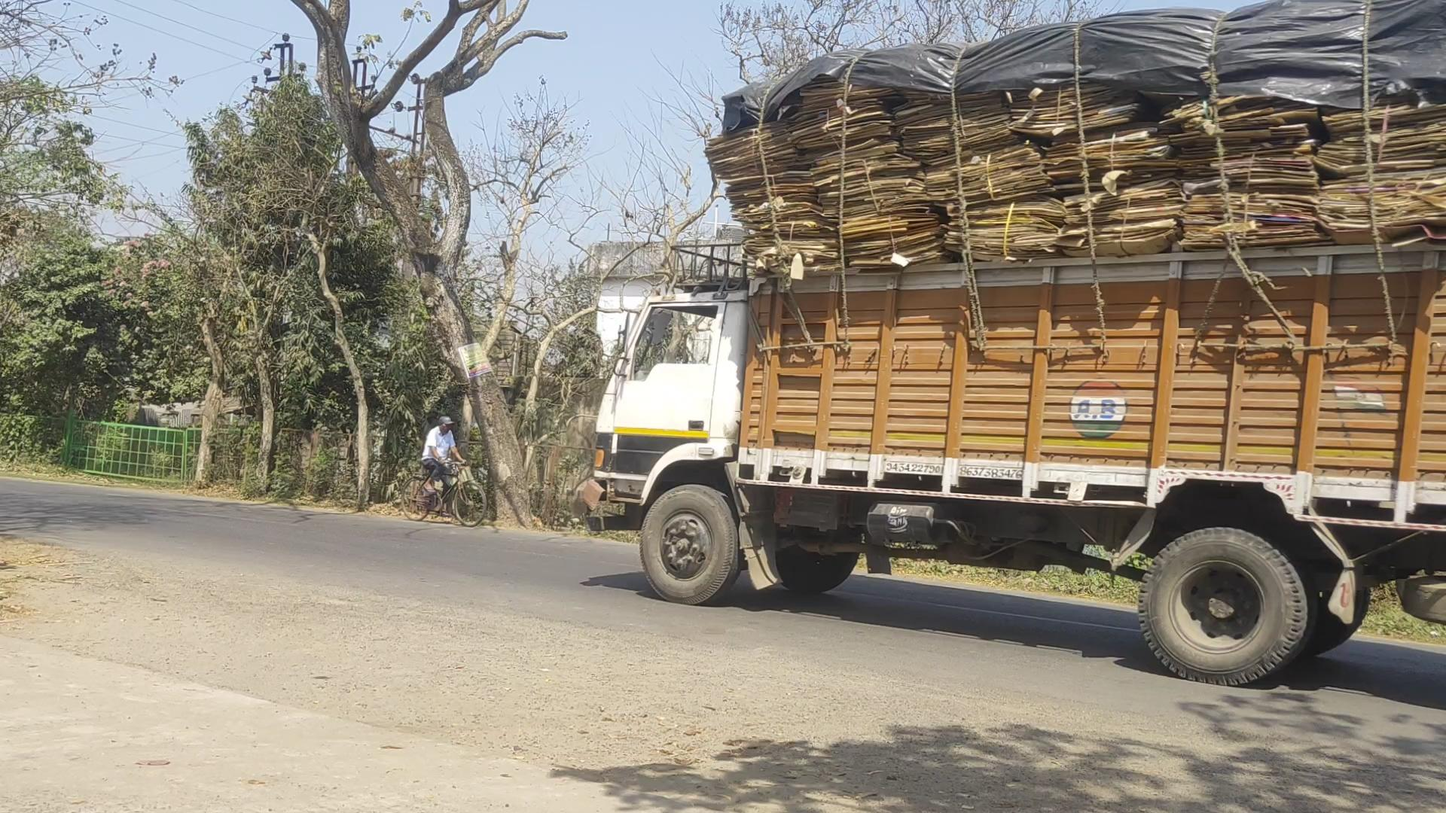bike: (401, 415, 487, 527)
truck: (590, 11, 1446, 685)
